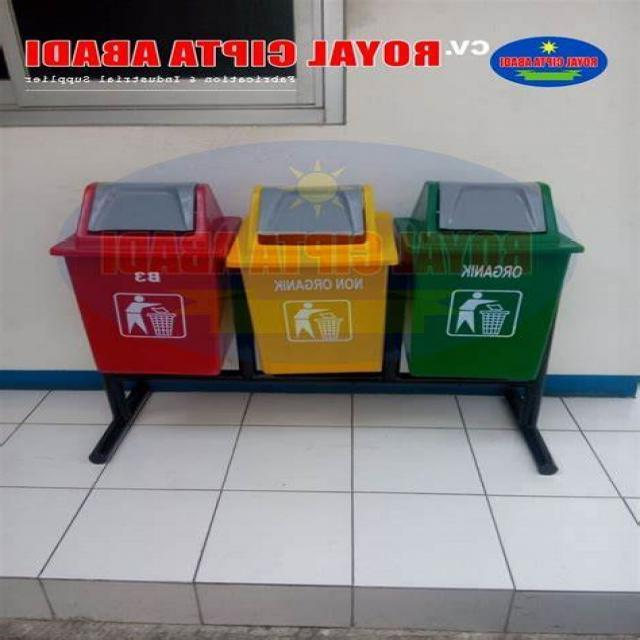garbage container: (386, 157, 604, 425), (51, 165, 226, 406), (227, 175, 393, 425)
